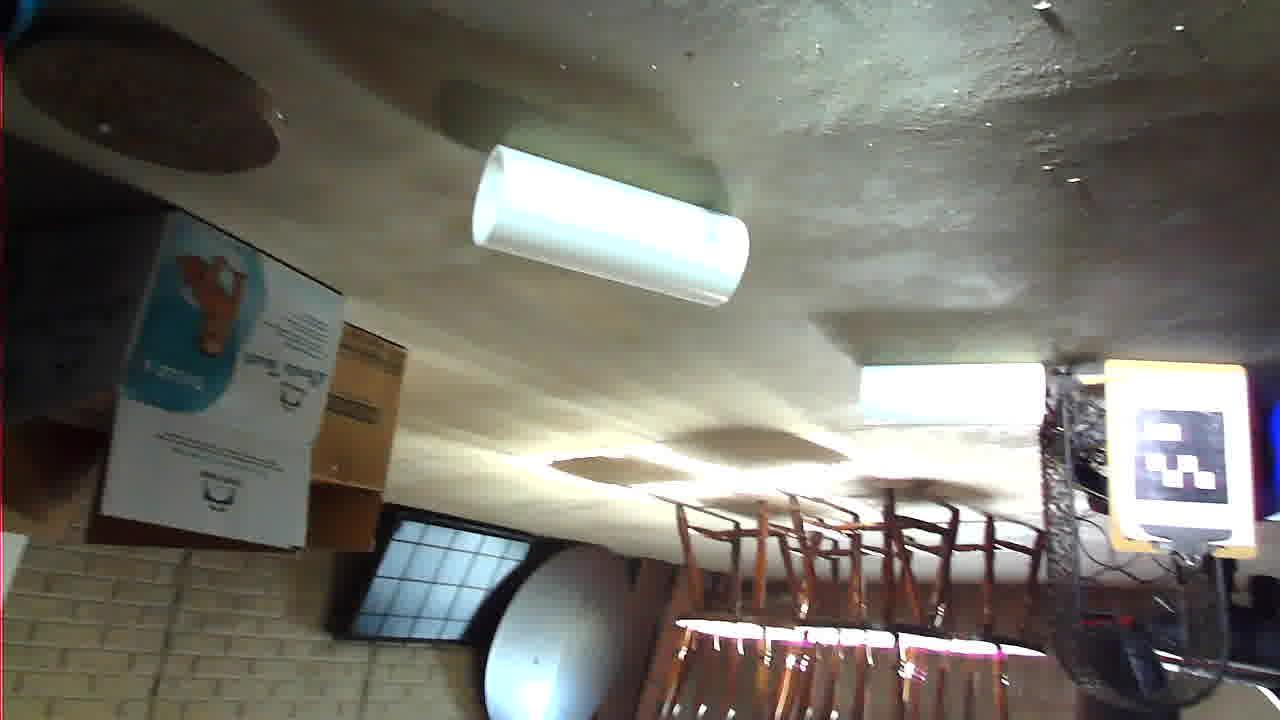coral: (531, 412, 810, 577), (234, 295, 421, 356)
